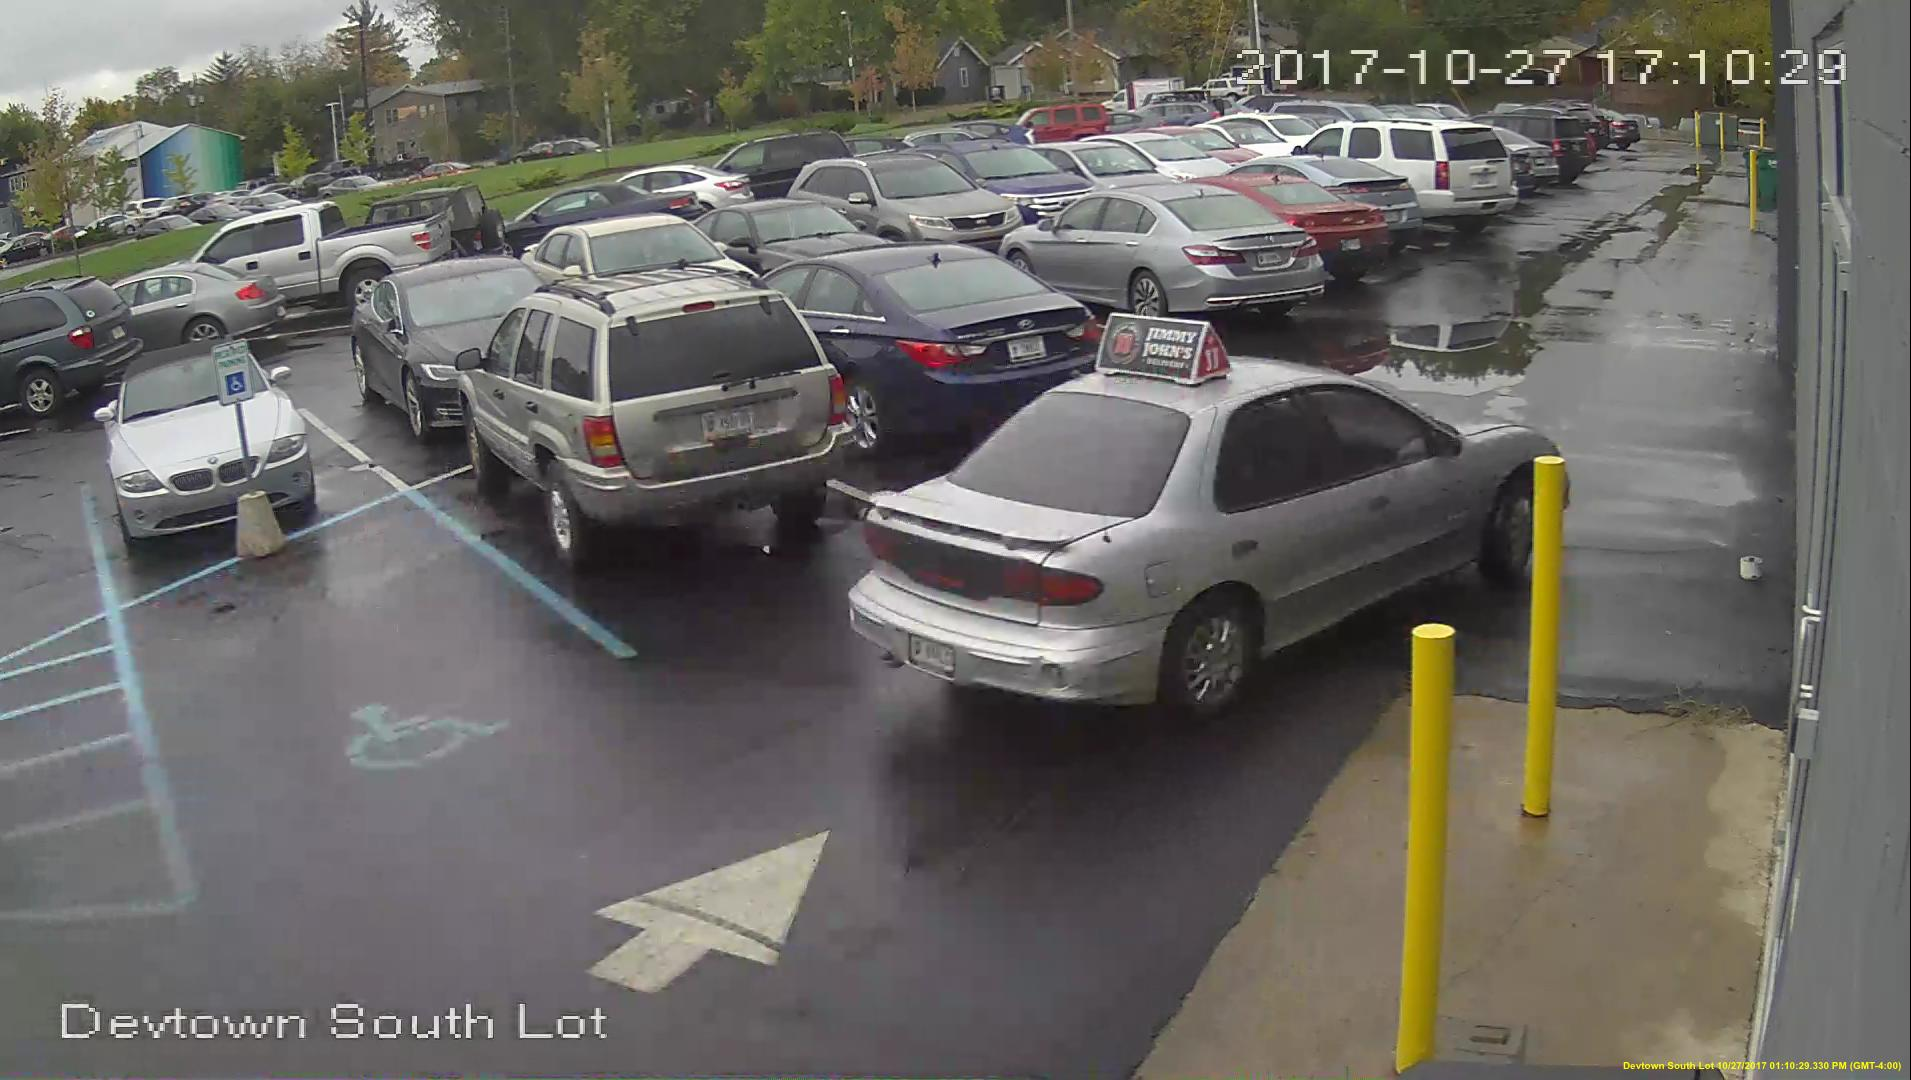jimmy_johns: (1097, 310, 1230, 386)
